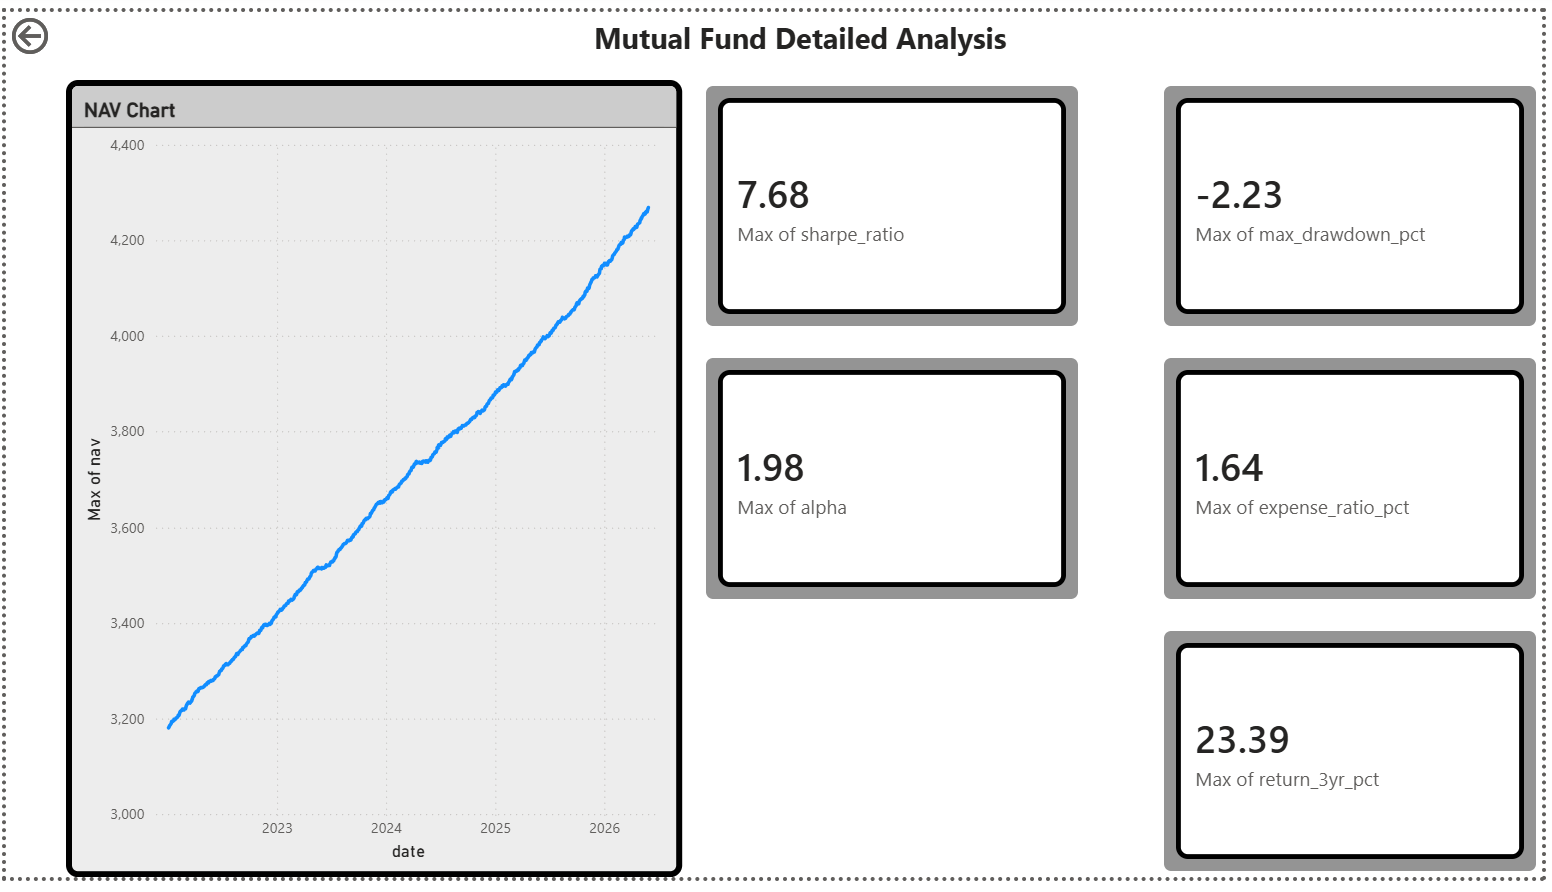

Layout of this report page (visuals, bound fields, positions):
{"tool":"powerbi","page":{"name":"Fund Detail","canvas":[1280,720],"ordinal":4},"visuals":[{"type":"actionButton","box":[0,0,100,40],"z":0},{"type":"textbox","box":[485,0,380,45],"z":1000},{"type":"lineChart","title":"NAV Chart","fields":{"Category":["clean_nav_history.date"],"Y":["Max(clean_nav_history.nav)"]},"box":[50,56.7,513.3,663.3],"z":2000},{"type":"cardVisual","fields":{"Data":["Max(clean_scheme_performance.sharpe_ratio)"]},"box":[578.3,56.7,320,210],"z":3000},{"type":"cardVisual","fields":{"Data":["Max(clean_scheme_performance.expense_ratio_pct)"]},"box":[960,283.3,320,210],"z":4000},{"type":"cardVisual","fields":{"Data":["Max(clean_scheme_performance.return_3yr_pct)"]},"box":[960,510,320,210],"z":5000},{"type":"cardVisual","fields":{"Data":["Max(clean_scheme_performance.max_drawdown_pct)"]},"box":[960,56.7,320,210],"z":6000},{"type":"cardVisual","fields":{"Data":["Max(clean_scheme_performance.alpha)"]},"box":[578.3,283.3,320,210],"z":7000},{"type":"actionButton","box":[0,0,100,40],"z":7001}]}

Visuals, with their boxes in screenshot pixels (x1, y1, x2, y2), scaled from the page's 1280x720 canvas onto the 1552x892 screenshot:
actionButton: detection(0, 0, 121, 50)
textbox: detection(588, 0, 1049, 56)
"NAV Chart" lineChart: detection(61, 70, 683, 891)
cardVisual - Max(clean_scheme_performance.sharpe_ratio): detection(701, 70, 1089, 330)
cardVisual - Max(clean_scheme_performance.expense_ratio_pct): detection(1164, 351, 1551, 611)
cardVisual - Max(clean_scheme_performance.return_3yr_pct): detection(1164, 632, 1551, 891)
cardVisual - Max(clean_scheme_performance.max_drawdown_pct): detection(1164, 70, 1551, 330)
cardVisual - Max(clean_scheme_performance.alpha): detection(701, 351, 1089, 611)
actionButton: detection(0, 0, 121, 50)
